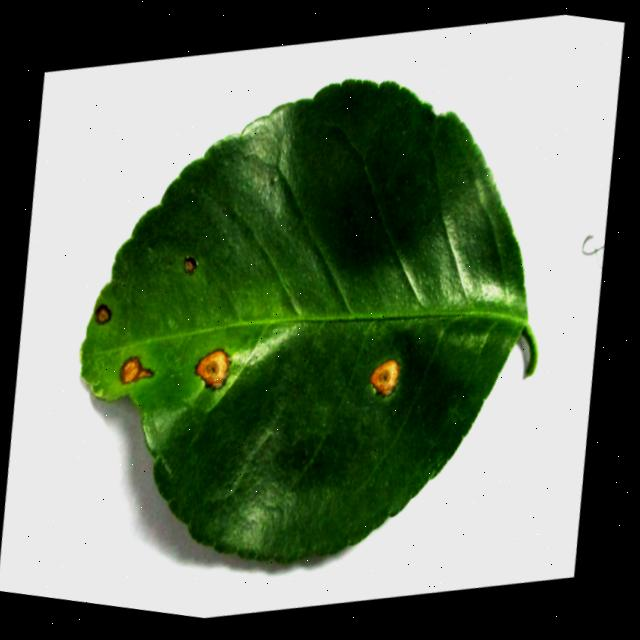antracnose: (79, 79, 536, 560), (194, 348, 228, 388), (368, 358, 398, 394), (119, 355, 152, 382), (93, 303, 110, 323), (183, 255, 196, 272)
